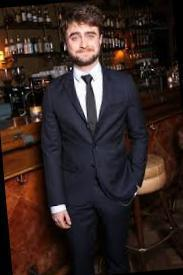Drunk: (67, 22, 100, 61)
